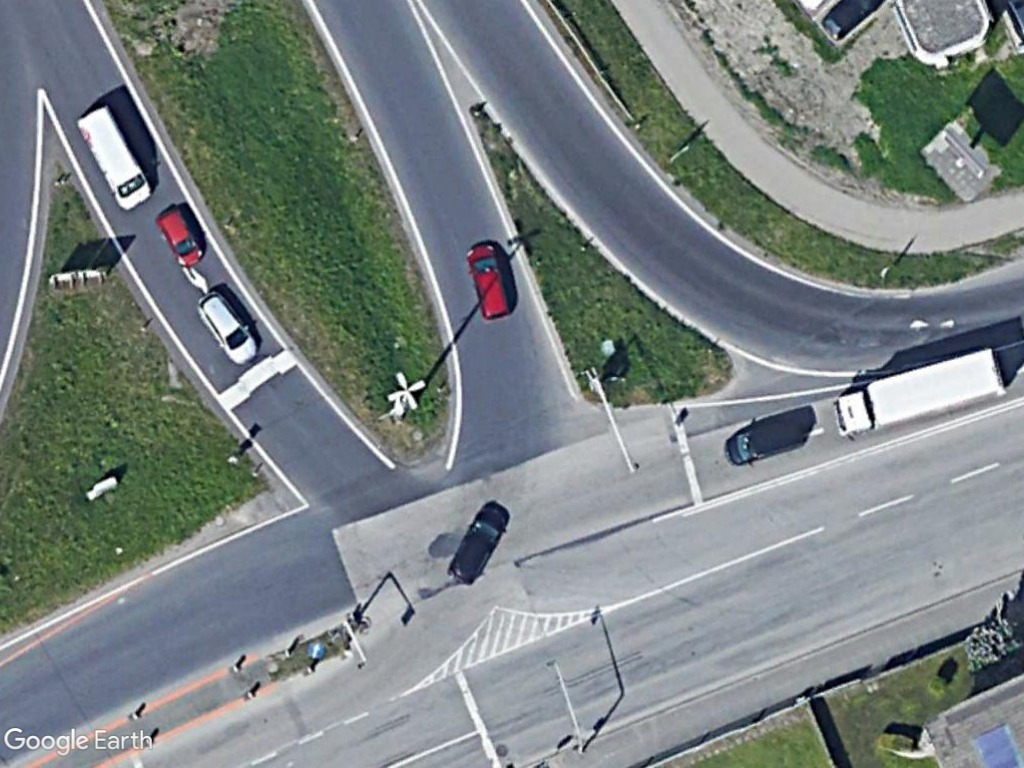car: (194, 288, 261, 365), (465, 241, 513, 320), (154, 204, 207, 272)
truck: (826, 345, 1009, 443)
van: (72, 99, 152, 216), (444, 501, 510, 589), (720, 409, 810, 466)
